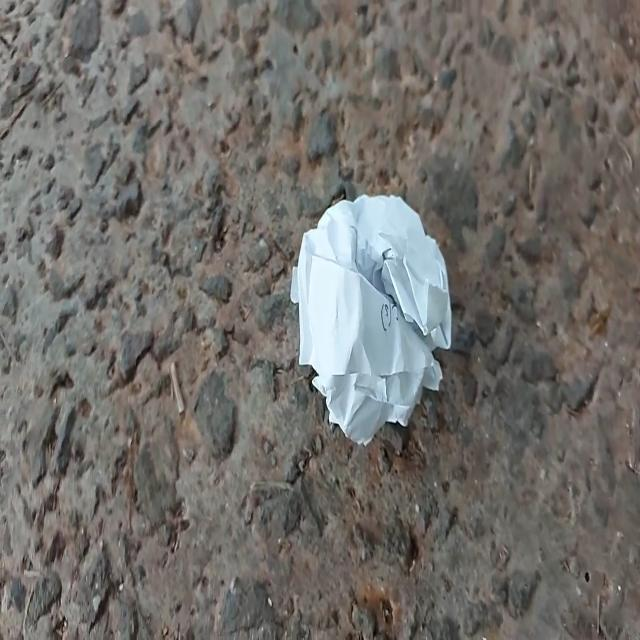Paper: (265, 172, 468, 459)
